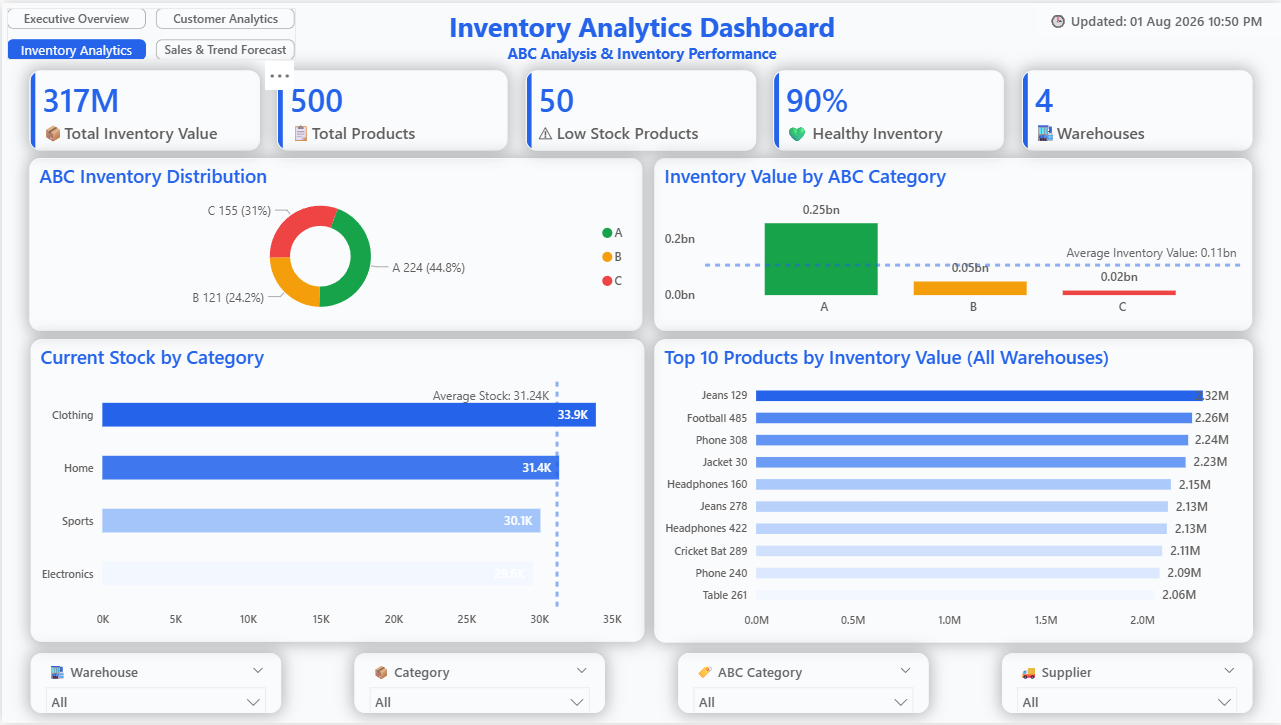

This screenshot's page, from the dashboard's own definition file:
{"tool":"powerbi","page":{"name":"Inventory Analytics","canvas":[1280,720],"ordinal":2},"visuals":[{"type":"textbox","box":[428.8,5,422.5,77.5],"z":0},{"type":"cardVisual","fields":{"Data":["abc_inventory_analysis.Total Inventory Value"]},"box":[27.3,67.3,230,80],"z":1000},{"type":"cardVisual","fields":{"Data":["_Measures.Warehouses"]},"box":[1020,67.5,230,80],"z":2000},{"type":"cardVisual","fields":{"Data":["_Measures.Inventory Health %"]},"box":[771.8,67.5,230,80],"z":3000},{"type":"cardVisual","fields":{"Data":["_Measures.Total Products"]},"box":[275.4,67.5,230,80],"z":4000},{"type":"shape","box":[0,650,1280,70],"z":5000},{"type":"slicer","fields":{"Values":["abc_inventory_analysis.Warehouse"]},"box":[28.8,650,250,60],"z":6000},{"type":"slicer","fields":{"Values":["Products.Category"]},"box":[352.5,650,250,60],"z":7000},{"type":"slicer","fields":{"Values":["abc_inventory_analysis.Supplier"]},"box":[1000,650,250,60],"z":8000},{"type":"donutChart","title":"ABC Inventory Distribution","fields":{"Category":["abc_inventory_analysis.ABC_Category"],"Y":["_Measures.Total Products"]},"box":[27.5,155,612.5,172.5],"z":9000},{"type":"clusteredColumnChart","title":"Inventory Value by ABC Category","fields":{"Category":["abc_inventory_analysis.ABC_Category"],"Y":["Sum(abc_inventory_analysis.InventoryValue)"]},"box":[652.5,155,597.5,172.5],"z":10000},{"type":"clusteredBarChart","title":"Current Stock by Category","fields":{"Y":["Sum(Inventory.StockAvailable)"],"Category":["Products.Category"]},"box":[28.8,336.2,613.8,302.5],"z":11000},{"type":"clusteredBarChart","fields":{"Category":["Products.ProductName"],"Y":["Sum(abc_inventory_analysis.InventoryValue)"]},"box":[653,336,598,303],"z":12000},{"type":"slicer","fields":{"Values":["abc_inventory_analysis.ABC_Category"]},"box":[676.2,650,250,60],"z":13000},{"type":"pageNavigator","box":[5,5,288.8,52.5],"z":14000},{"type":"cardVisual","fields":{"Data":["_Measures.Last Refresh Text"]},"box":[1035,0,245,33.8],"z":15000},{"type":"cardVisual","fields":{"Data":["_Measures.Low Stock Products"]},"box":[523.6,67.5,230,80],"z":16000}]}

Visuals, with their boxes in screenshot pixels (x1, y1, x2, y2), scaled from the page's 1280x720 canvas onto the 1281x725 screenshot:
textbox: 429 5 852 83
cardVisual - abc_inventory_analysis.Total Inventory Value: 27 68 258 148
cardVisual - _Measures.Warehouses: 1021 68 1251 149
cardVisual - _Measures.Inventory Health %: 772 68 1003 149
cardVisual - _Measures.Total Products: 276 68 506 149
shape: 0 655 1280 724
slicer - abc_inventory_analysis.Warehouse: 29 655 279 715
slicer - Products.Category: 353 655 603 715
slicer - abc_inventory_analysis.Supplier: 1001 655 1251 715
"ABC Inventory Distribution" donutChart: 28 156 640 330
"Inventory Value by ABC Category" clusteredColumnChart: 653 156 1251 330
"Current Stock by Category" clusteredBarChart: 29 339 643 643
clusteredBarChart - Products.ProductName x Sum(abc_inventory_analysis.InventoryValue): 654 338 1252 643
slicer - abc_inventory_analysis.ABC_Category: 677 655 927 715
pageNavigator: 5 5 294 58
cardVisual - _Measures.Last Refresh Text: 1036 0 1280 34
cardVisual - _Measures.Low Stock Products: 524 68 754 149
